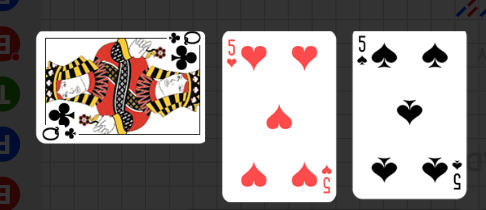5H: (226, 38, 238, 69)
5S: (451, 157, 463, 191)
9C: (40, 125, 78, 142)
